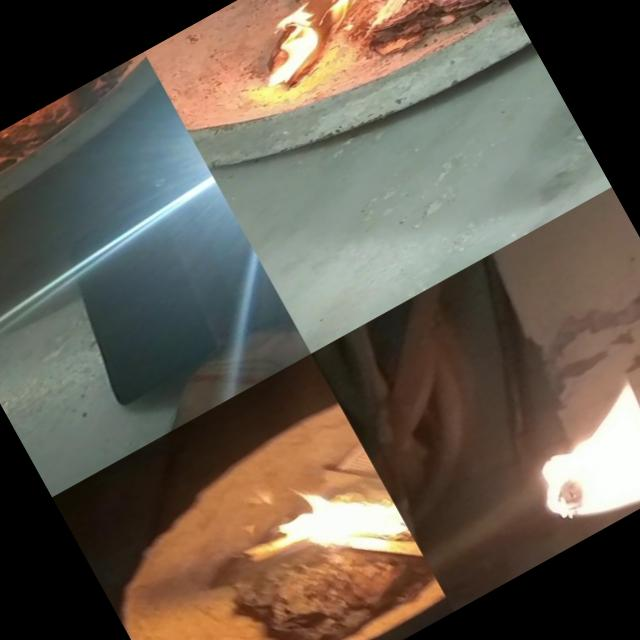fire: (474, 332, 640, 561), (237, 438, 418, 614), (212, 0, 497, 108)
